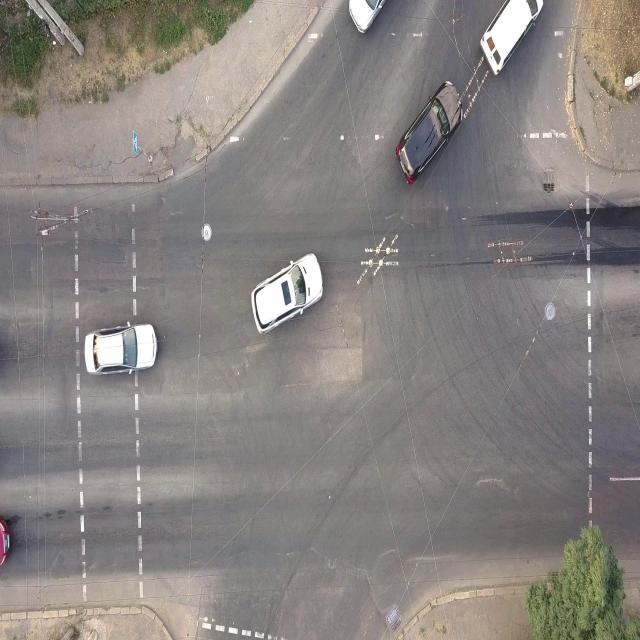Car: (248, 246, 328, 341), (398, 80, 461, 177), (84, 317, 161, 380), (483, 0, 543, 72)
